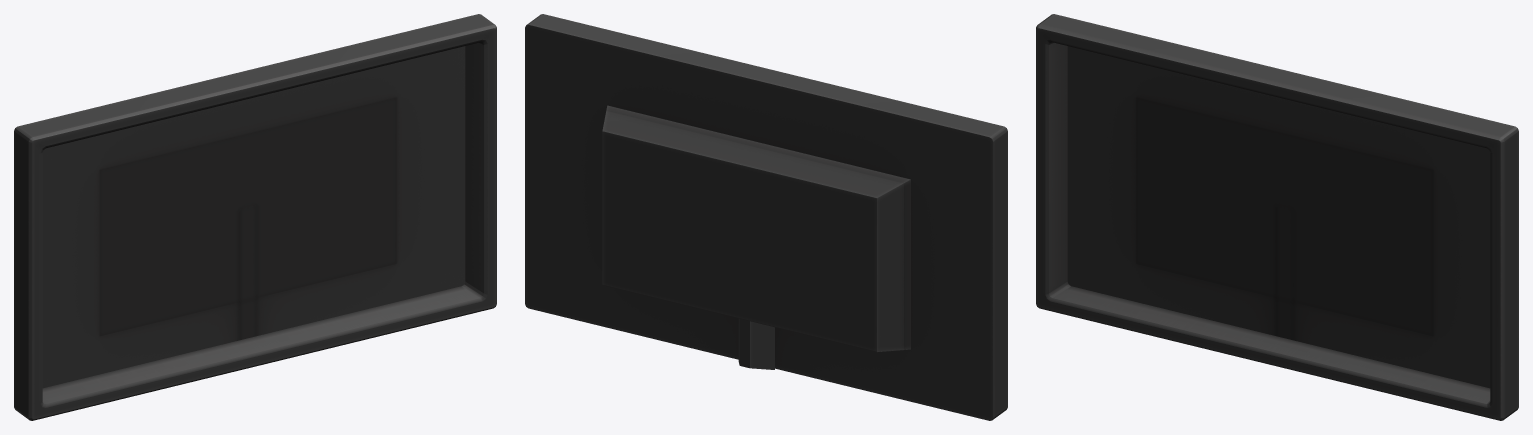
The picture shows the model from 3 angles, left to right: view 1: azimuth 30°, elevation 25°; view 2: azimuth 150°, elevation 25°; view 3: azimuth 330°, elevation 25°; orthographic projection.
Visible parts, largest first — view 1: TVBody; view 2: TVBody; view 3: TVBody.
Part boxes in pixels (x1,y1,x2,y2): TVBody: [14, 14, 496, 420]; TVBody: [525, 14, 1007, 420]; TVBody: [1036, 14, 1518, 420].
Bounding box in the file's own units: 75.32 × 43.61 × 9.87.
